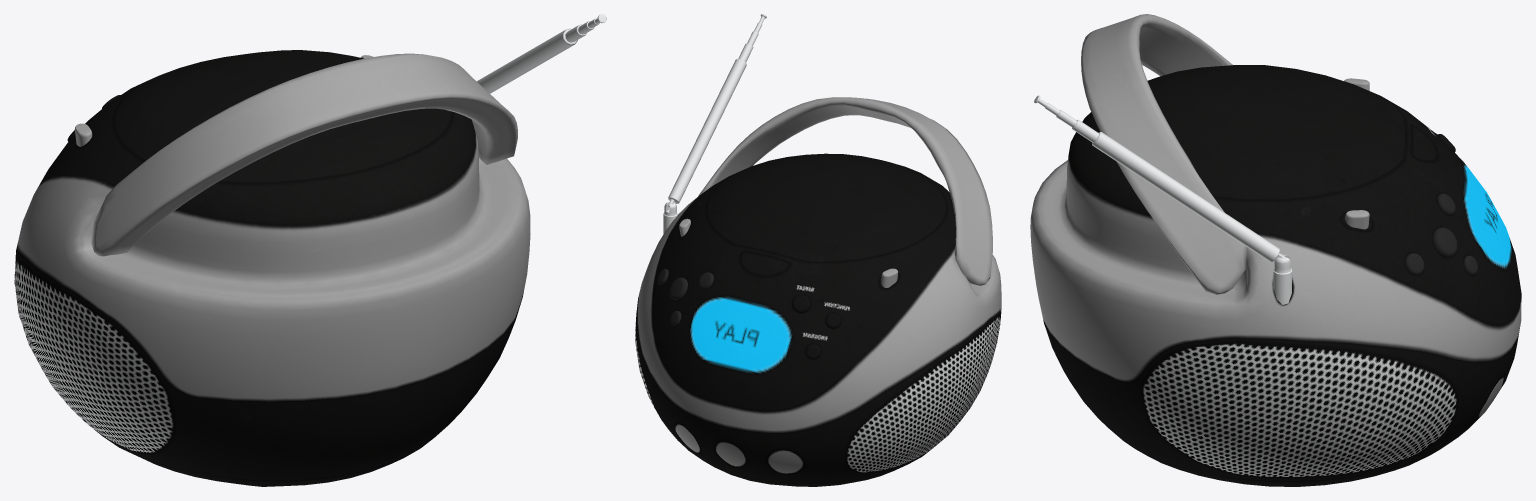
The picture shows the model from 3 angles, left to right: view 1: azimuth 30°, elevation 25°; view 2: azimuth 150°, elevation 25°; view 3: azimuth 270°, elevation 25°; orthographic projection. The views are drawn at different scales.
Visible parts, largest first — view 1: BoomBox; view 2: BoomBox; view 3: BoomBox.
Boxes of the visible parts, x1,y1,x2,y2 form: BoomBox: [14, 14, 606, 486]; BoomBox: [635, 14, 1001, 486]; BoomBox: [1030, 14, 1521, 486].
Size of the model in its own units: 19.69 by 19.4 by 20.
1 material, 1 textured.
